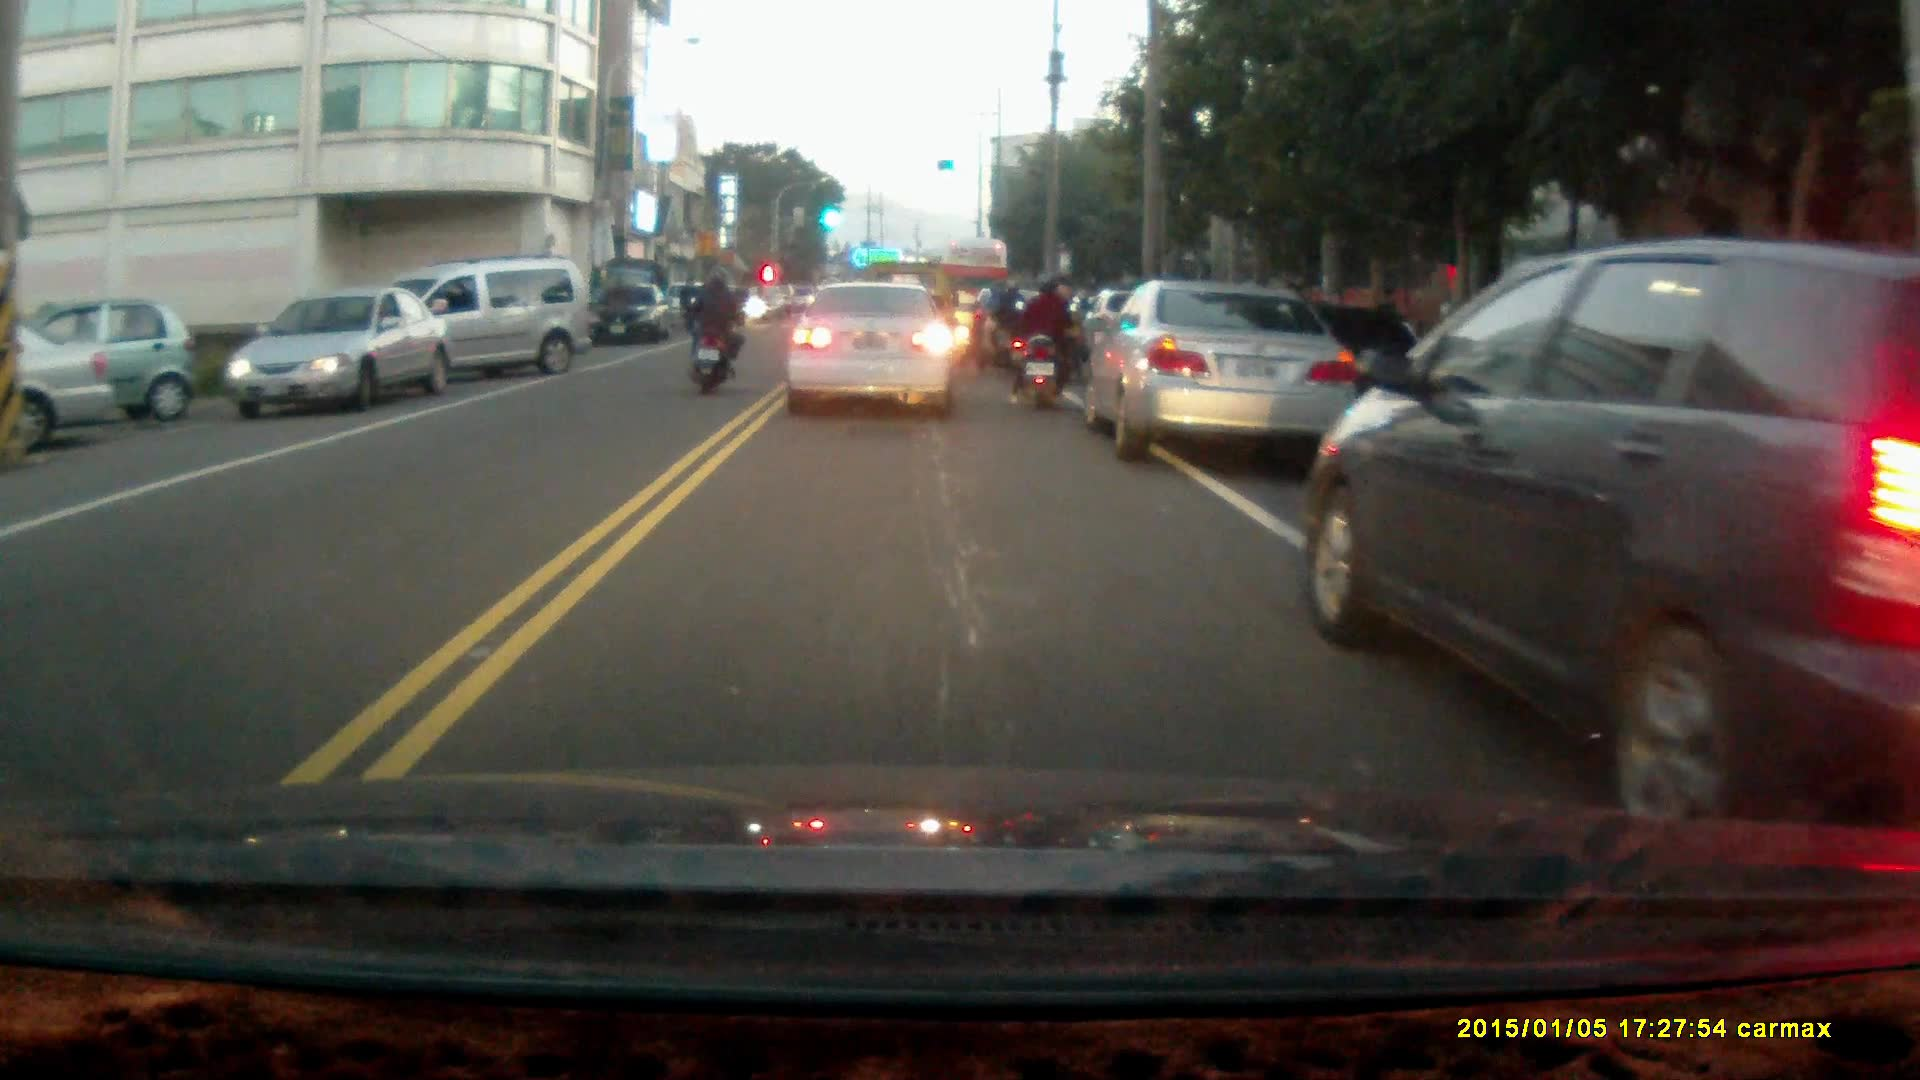pedestrian: (675, 277, 699, 336)
rider: (1007, 269, 1080, 413), (685, 271, 744, 393), (969, 273, 1024, 378)
vehicle: (1296, 233, 1920, 824), (1077, 275, 1359, 461), (334, 258, 590, 398), (225, 290, 451, 420), (1, 296, 204, 427), (789, 285, 958, 417), (1, 325, 115, 457), (582, 283, 671, 349)
